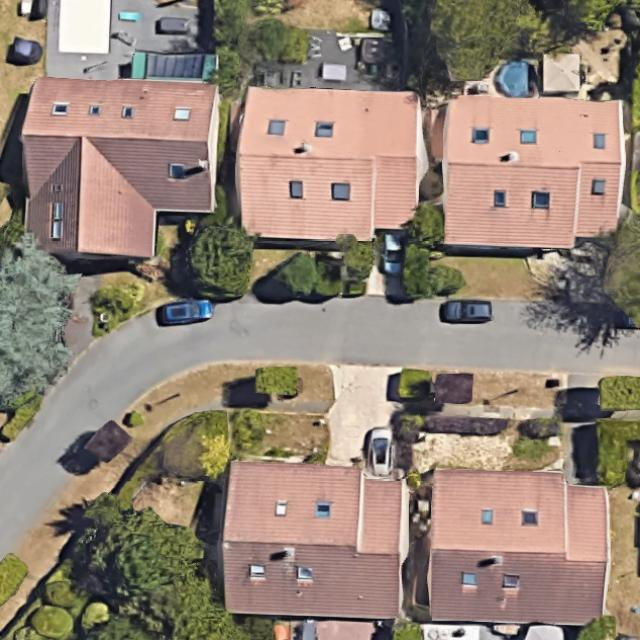maison: (17, 76, 221, 261), (234, 87, 429, 245), (218, 461, 410, 621), (424, 469, 612, 626), (441, 96, 625, 249)
